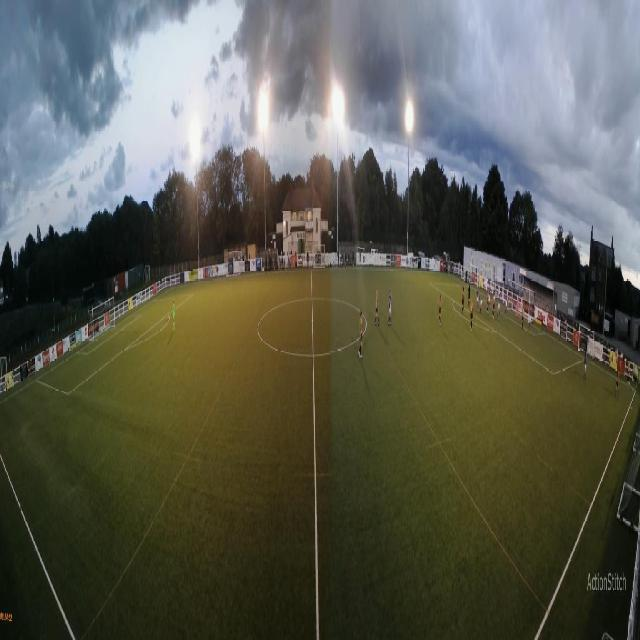player: (358, 309, 364, 360), (374, 288, 380, 328), (388, 287, 393, 327), (583, 349, 588, 380), (615, 369, 620, 399), (172, 299, 176, 331), (470, 300, 474, 332), (438, 295, 442, 326), (497, 294, 501, 318), (479, 294, 483, 316), (493, 288, 497, 310), (462, 287, 465, 315), (491, 293, 494, 320), (486, 290, 489, 315), (522, 306, 525, 331), (529, 307, 532, 332), (468, 284, 471, 308), (476, 288, 479, 312), (488, 288, 491, 310), (516, 296, 519, 318), (505, 292, 507, 318)
